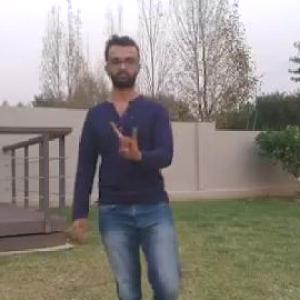takeoff-hand: (108, 114, 142, 160)
